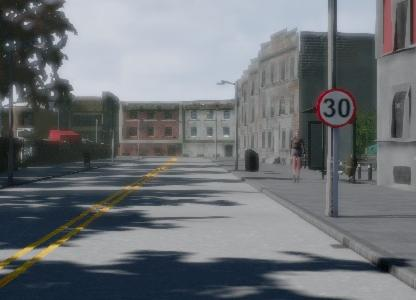Speed_30: (305, 82, 351, 126)
